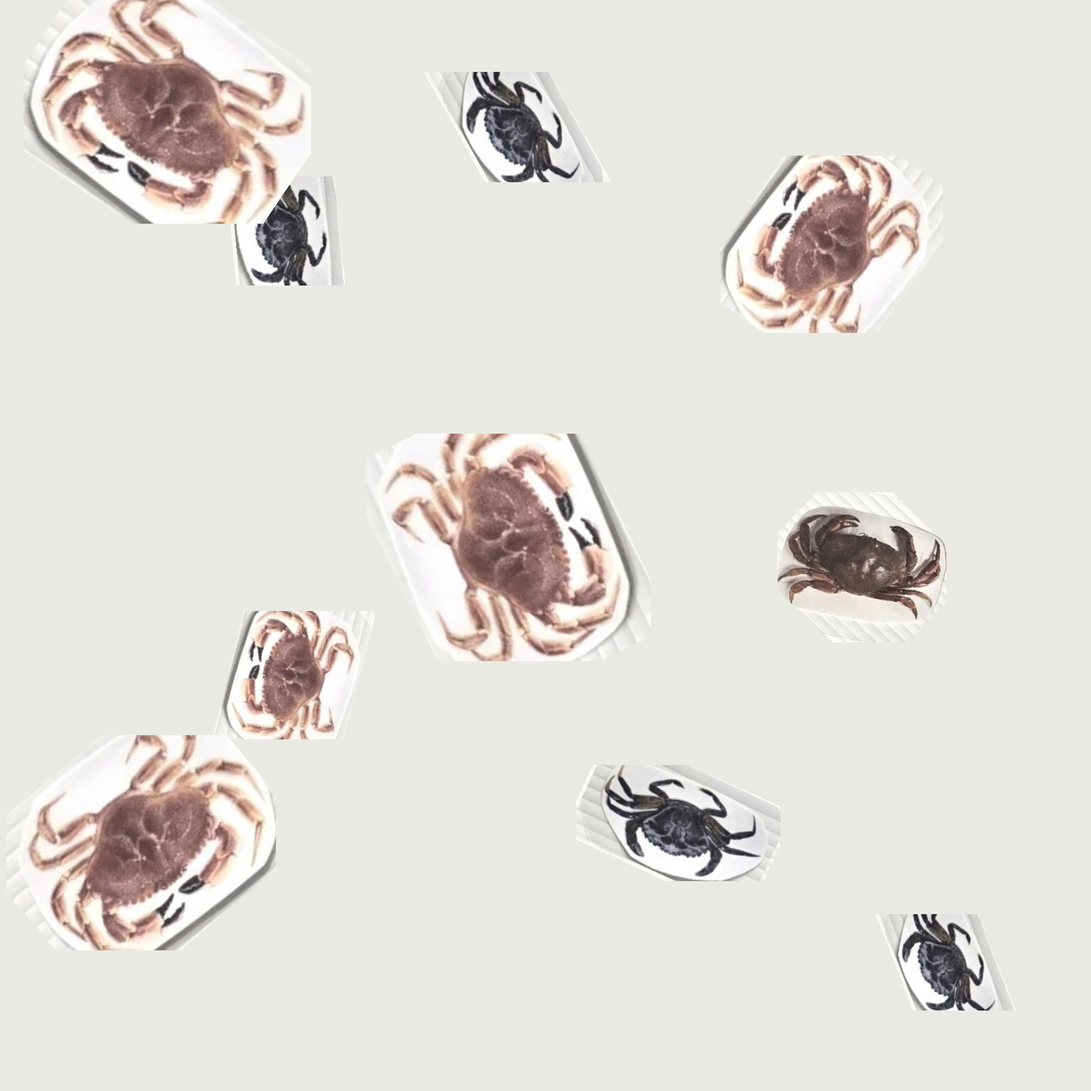evil: (572, 762, 795, 888), (424, 69, 605, 178), (876, 915, 1017, 1015), (234, 179, 346, 283)
normal: (357, 426, 643, 676), (14, 7, 315, 224), (5, 738, 293, 950), (708, 150, 926, 336), (210, 583, 379, 736), (770, 502, 950, 627)
